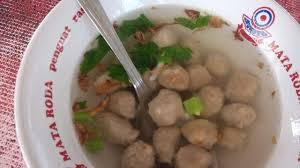bakso: (72, 23, 251, 168)
